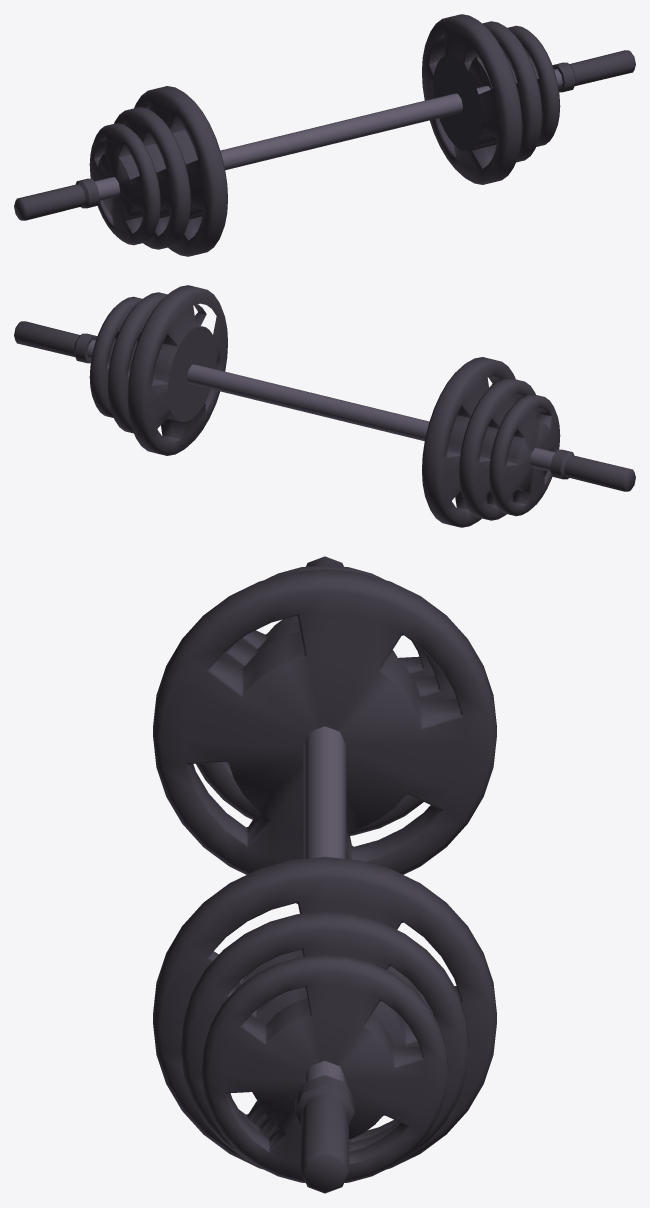
Rendered from Barbell.glb.
The picture shows the model from 3 angles, top to bottom: view 1: azimuth 30°, elevation 25°; view 2: azimuth 150°, elevation 25°; view 3: azimuth 270°, elevation 25°; orthographic projection. The views are drawn at different scales.
Visible parts, largest first — view 1: Barbell_v01; view 2: Barbell_v01; view 3: Barbell_v01.
Boxes of the visible parts, box(x1,y1,x2,y2) form: Barbell_v01: box(14, 14, 635, 256); Barbell_v01: box(14, 285, 635, 527); Barbell_v01: box(153, 556, 496, 1193).
Size of the model in its own units: 2.42 by 0.5876 by 0.5876.
1 material, 1 textured.
